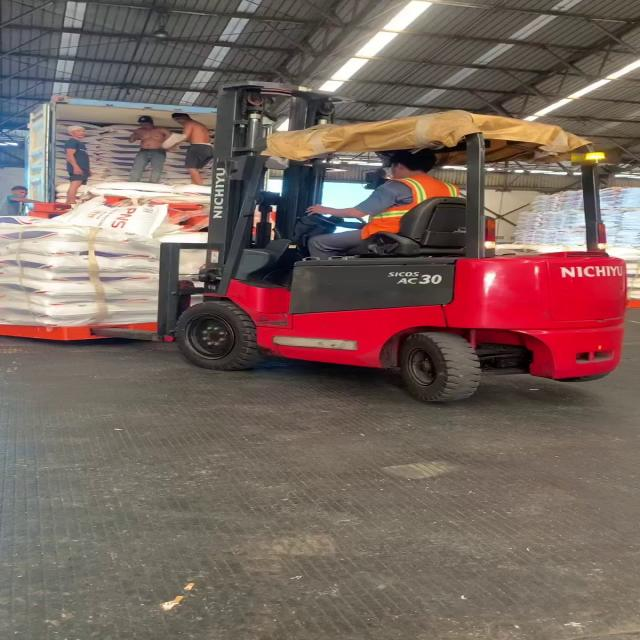forklift: (165, 80, 629, 402)
